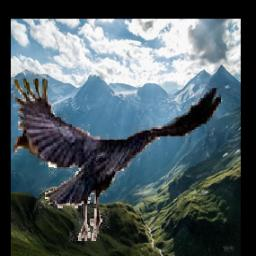Crow: (13, 75, 221, 242)
